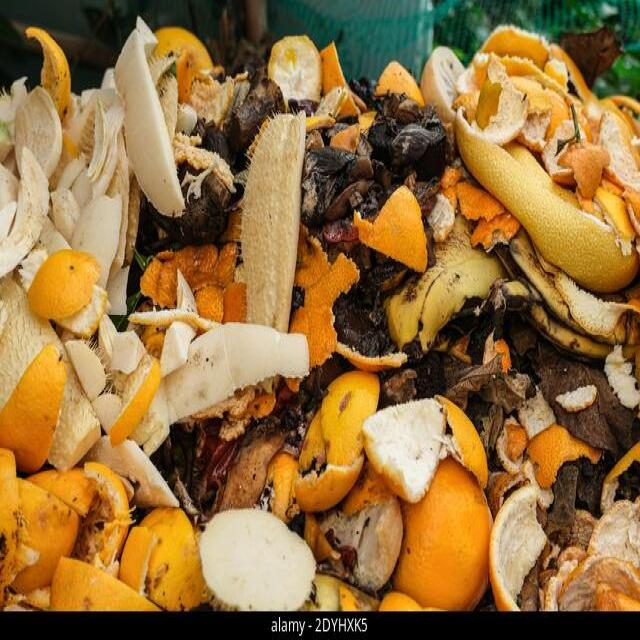Wet: (454, 108, 630, 290), (4, 466, 124, 602), (111, 16, 186, 228), (405, 476, 502, 606), (360, 402, 463, 508), (8, 331, 74, 474), (27, 251, 97, 318)
